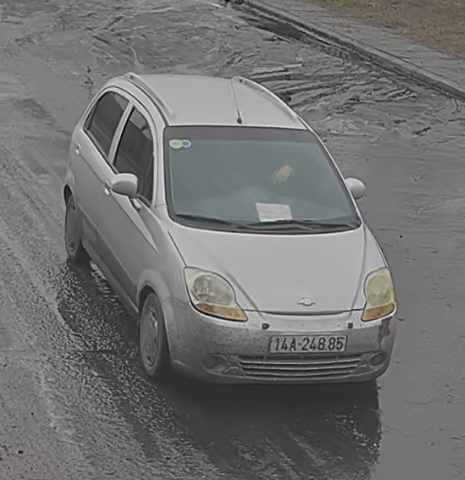vehicle plate: (266, 329, 354, 355)
